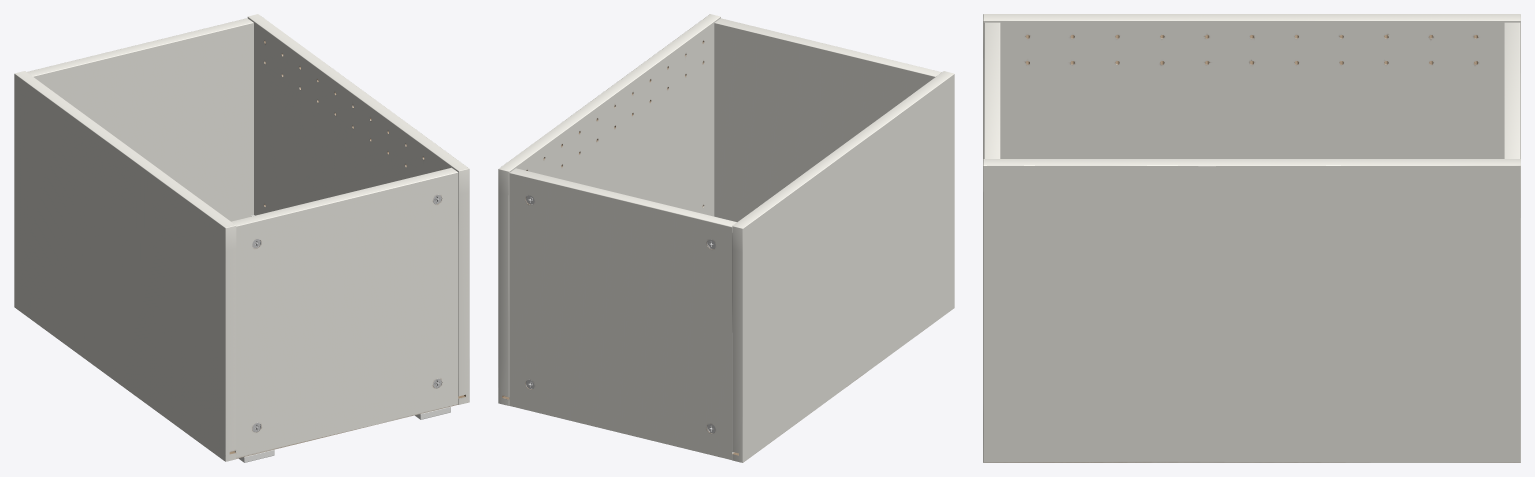
Rendered from METOD Rangement mural blanc 40x37x60 cm.glb.
3 views of the same model, side by side, from view 1: azimuth 30°, elevation 25°; view 2: azimuth 150°, elevation 25°; view 3: azimuth 270°, elevation 25° (orthographic). The views are drawn at different scales.
Visible parts, largest first — view 1: 10205534-METOD001; view 2: 10205534-METOD001; view 3: 10205534-METOD001.
Part boxes in pixels (<box>): 10205534-METOD001: <box>14,14,469,462</box>; 10205534-METOD001: <box>498,14,954,462</box>; 10205534-METOD001: <box>983,14,1520,462</box>.
Bounding box in the file's own units: 0.4001 × 0.3761 × 0.6.
1 material, 1 textured.
